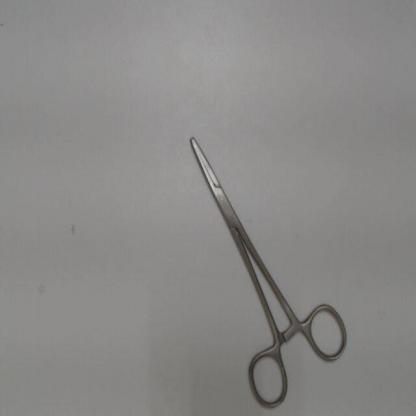Mayo Needle Holder: (183, 124, 358, 412)
